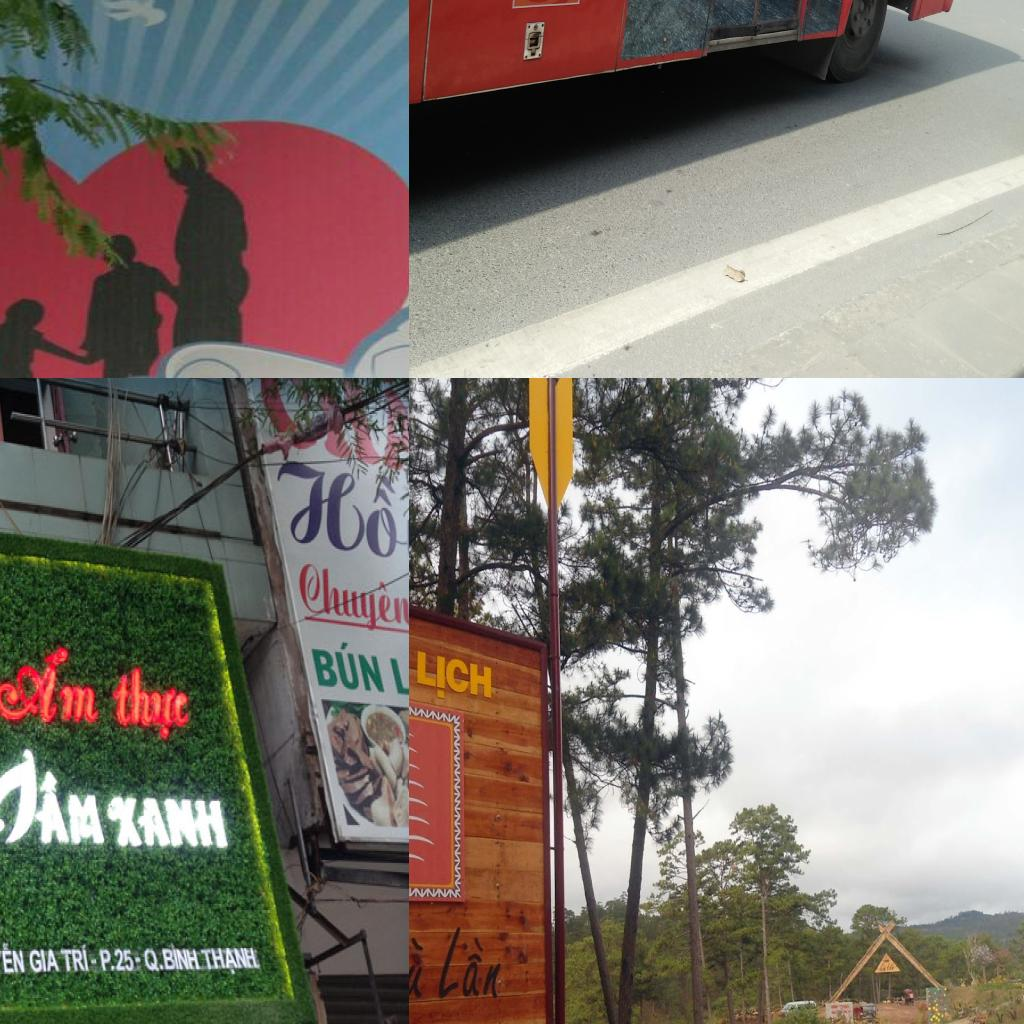text: (275, 456, 409, 600), (0, 748, 105, 845), (296, 559, 409, 640), (0, 646, 98, 726), (108, 792, 237, 851), (434, 916, 509, 1004), (113, 666, 194, 743), (415, 649, 494, 710), (310, 640, 387, 696), (409, 915, 430, 1008), (203, 944, 259, 976), (158, 943, 200, 977), (386, 647, 409, 703), (60, 940, 92, 978), (97, 945, 135, 972), (26, 945, 60, 975), (0, 944, 29, 978), (142, 948, 164, 977), (880, 963, 888, 973), (887, 963, 895, 972)
